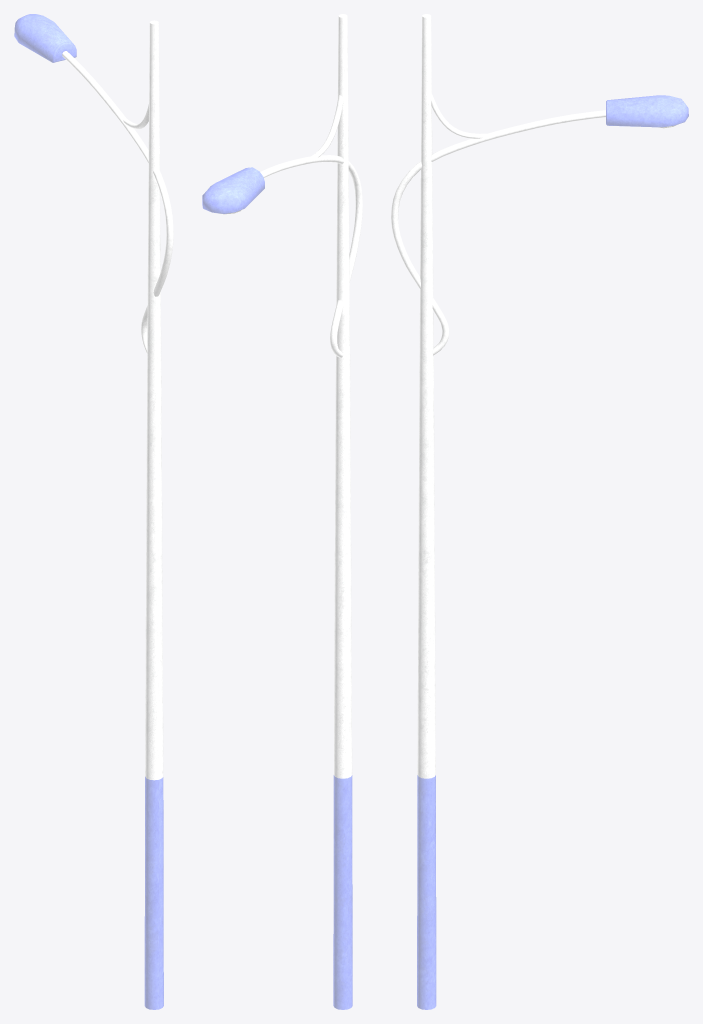
File: Lamp.glb
The picture shows the model from 3 angles, left to right: view 1: azimuth 30°, elevation 25°; view 2: azimuth 150°, elevation 25°; view 3: azimuth 270°, elevation 25°; orthographic projection.
Parts seen in each view (by area): view 1: Lamp; view 2: Lamp; view 3: Lamp.
Boxes of the visible parts, x1,y1,x2,y2 form: Lamp: [14, 14, 173, 1009]; Lamp: [202, 14, 362, 1009]; Lamp: [391, 14, 688, 1009].
Size of the model in its own units: 0.4499 by 11 by 3.
Materials: 2 (2 with a texture image).
